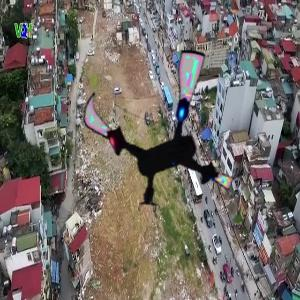drone: (79, 42, 257, 220)
